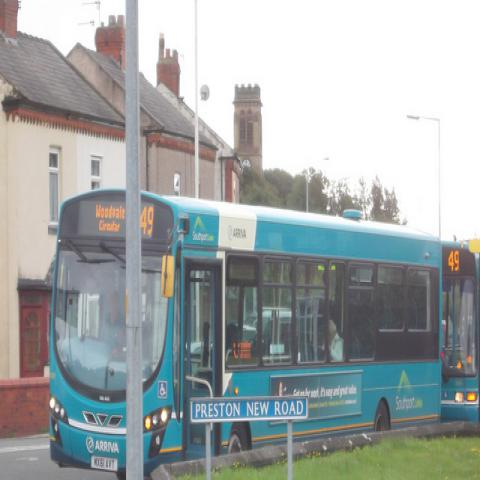bus: (48, 189, 442, 480), (442, 237, 479, 424)
